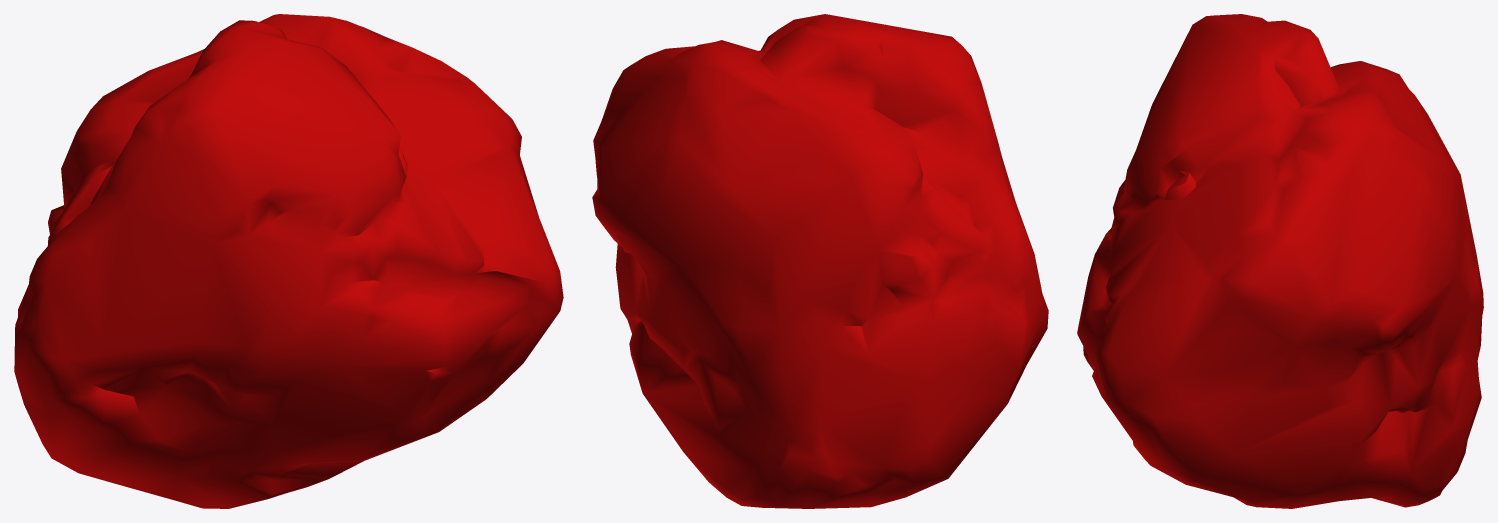
File: Boulder.FBX
The picture shows the model from 3 angles, left to right: view 1: azimuth 30°, elevation 25°; view 2: azimuth 150°, elevation 25°; view 3: azimuth 270°, elevation 25°; orthographic projection. The views are drawn at different scales.
Parts seen in each view (by area): view 1: boulder_LP; view 2: boulder_LP; view 3: boulder_LP.
Boxes of the visible parts, x1,y1,x2,y2 form: boulder_LP: [14, 14, 563, 508]; boulder_LP: [592, 14, 1048, 508]; boulder_LP: [1077, 14, 1483, 508].
Bounding box in the file's own units: 452 × 436 × 346.
